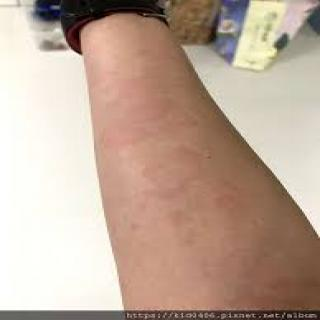urticaria: (93, 68, 202, 147), (136, 165, 247, 229), (219, 259, 311, 306)
